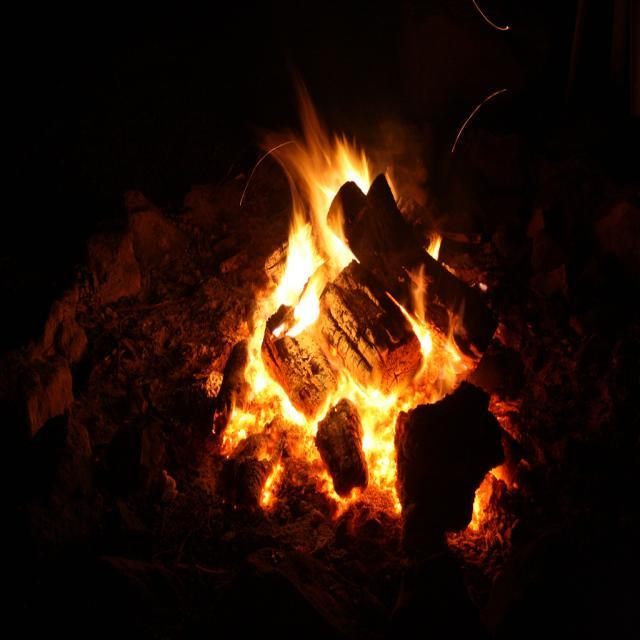Fire: (291, 117, 354, 208), (354, 374, 397, 470), (281, 231, 323, 327)
